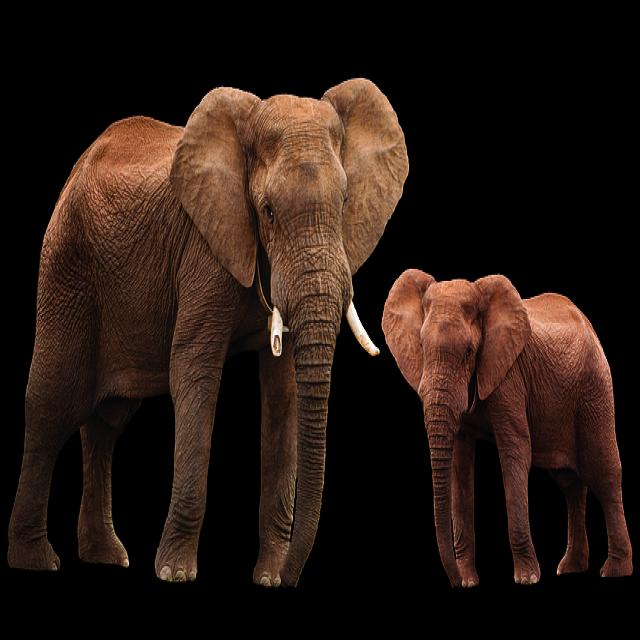elephant: (8, 79, 408, 586), (382, 270, 631, 587)
